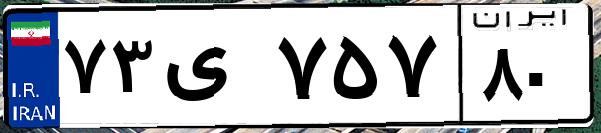0: (525, 38, 570, 115)
3: (110, 28, 158, 98)
5: (330, 28, 385, 110)
7: (270, 28, 330, 110), (385, 28, 445, 110), (57, 26, 110, 100)
8: (475, 38, 525, 113)
ی: (158, 20, 270, 120)
